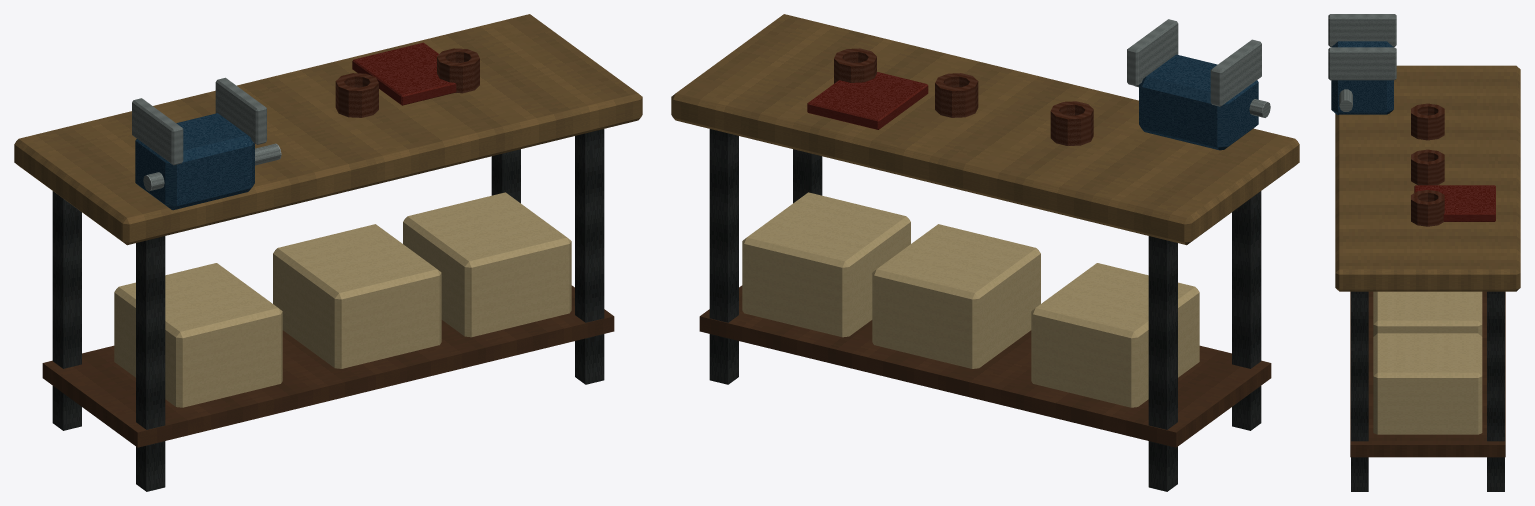
File: level_castle_preparation_bench.glb
3 views of the same model, side by side, from view 1: azimuth 30°, elevation 25°; view 2: azimuth 150°, elevation 25°; view 3: azimuth 270°, elevation 25° (orthographic). The views are drawn at different scales.
Visible parts, largest first — view 1: level_workbench; view 2: level_workbench; view 3: level_workbench.
Part boxes in pixels (x1=…): level_workbench: x1=14, y1=14, x2=642, y2=491; level_workbench: x1=671, y1=14, x2=1299, y2=491; level_workbench: x1=1328, y1=14, x2=1520, y2=491.
Size of the model in its own units: 1.8 by 1.22 by 0.705.
8 materials, 8 textured.
